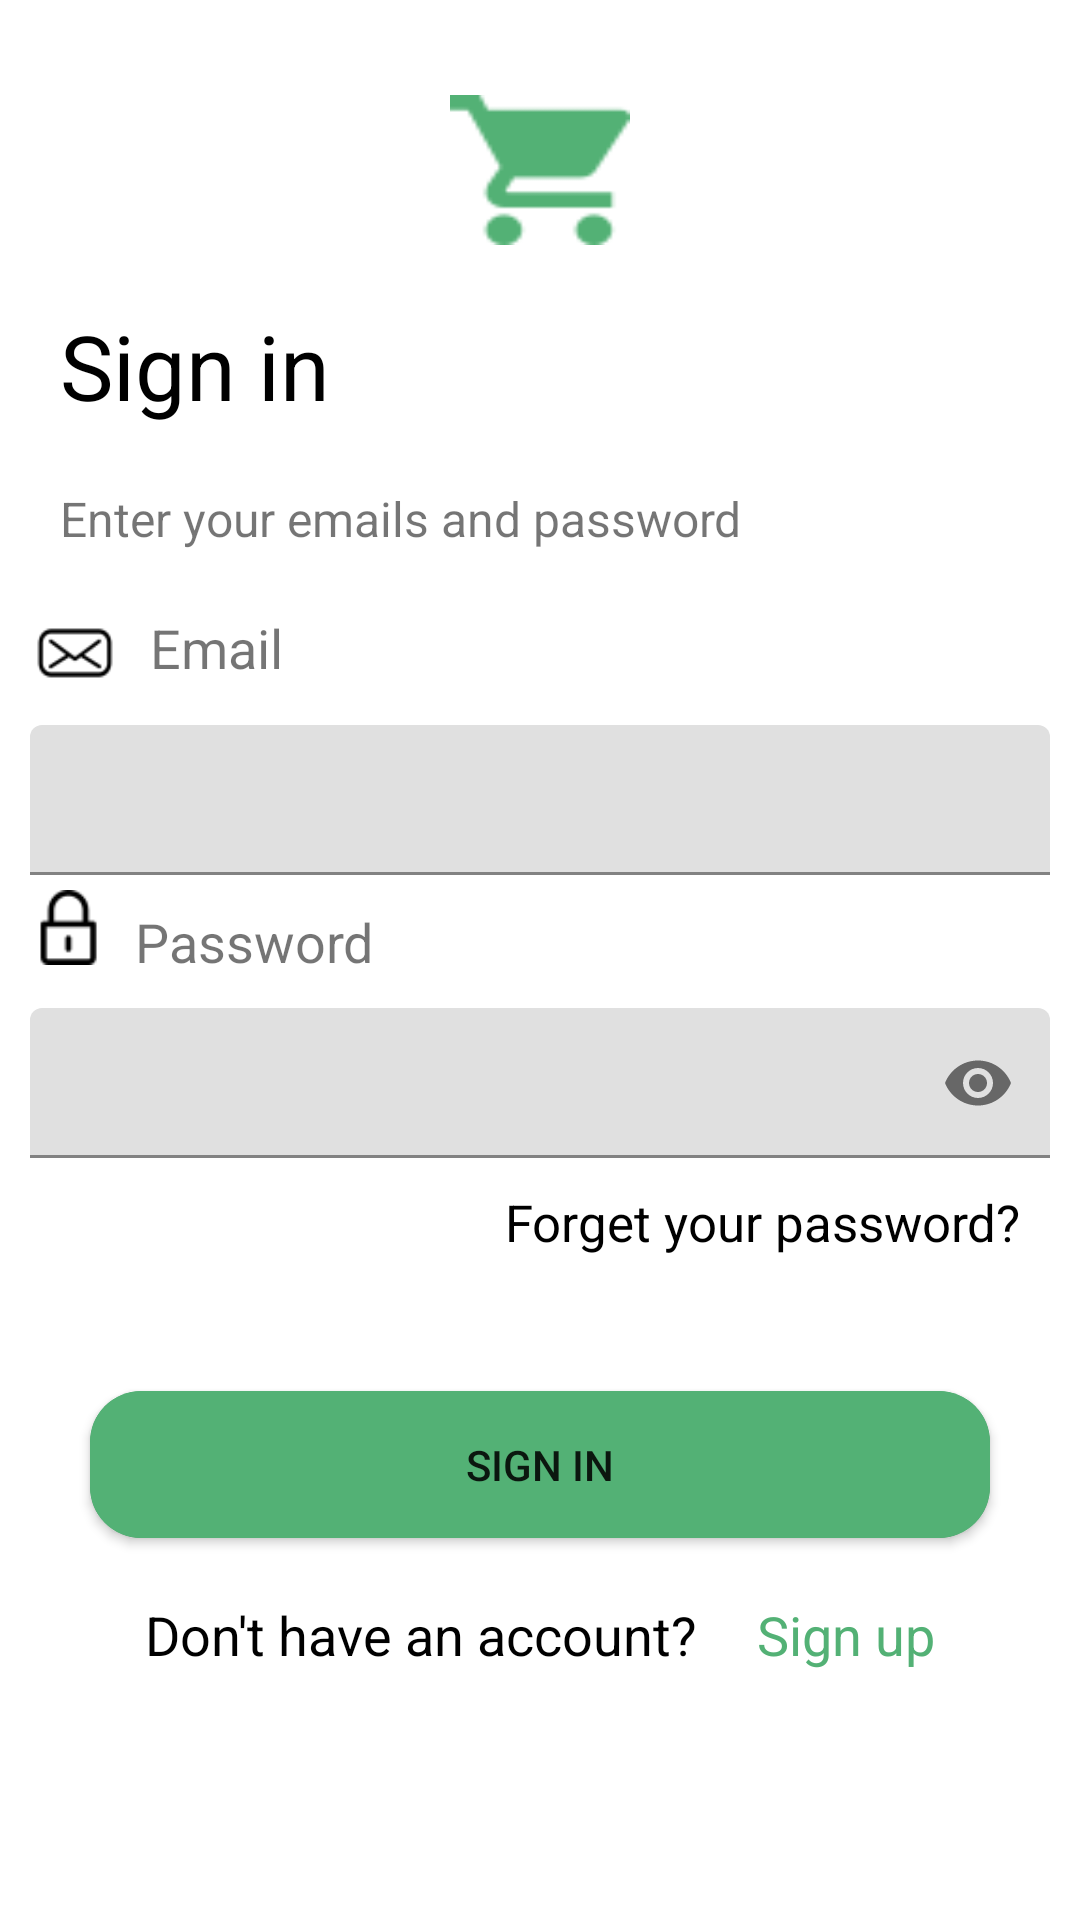

Point at icon controls on the screen. Image size 1080px x 1920px, points as [x,y].
mailicon: [75,653]
passicon: [68,927]
